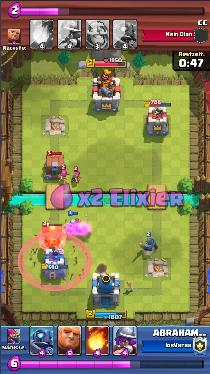ally_goblin_cage: (44, 154, 66, 180)
ally_knight: (138, 237, 159, 253)
ally_spear_goblin: (68, 218, 79, 232)
enemy_archer: (59, 169, 68, 182), (71, 170, 80, 183)
enemy_arrow: (18, 231, 92, 291)
enemy_giant: (37, 225, 65, 248)
